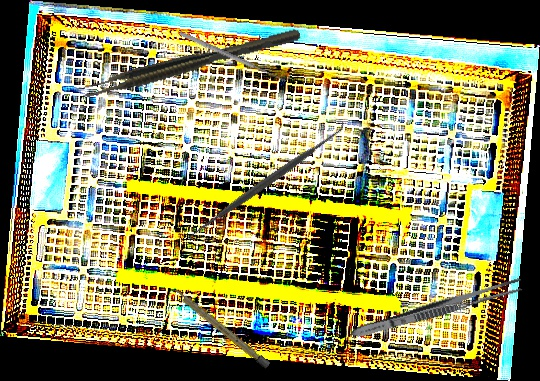Dressing Forceps: (347, 274, 526, 344)
Hook Surgical: (176, 25, 293, 86)
Scalpel Handle: (169, 284, 271, 370)
Spatula Surgical: (181, 117, 353, 246)
Tissue Forceps: (80, 28, 303, 101)
